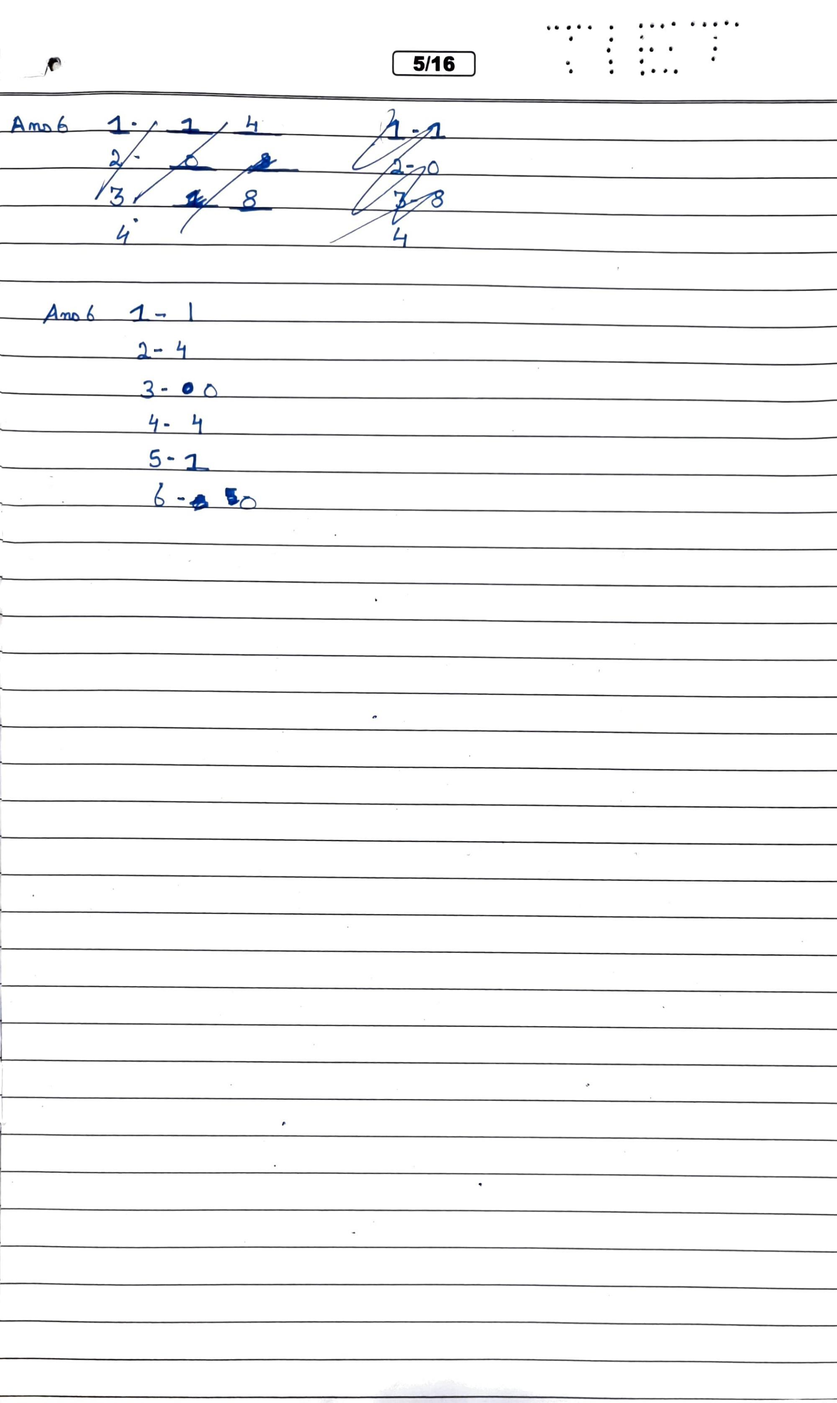cuttings: (91, 108, 309, 257), (320, 99, 456, 253), (187, 492, 211, 513), (223, 485, 240, 508), (180, 379, 195, 397)
